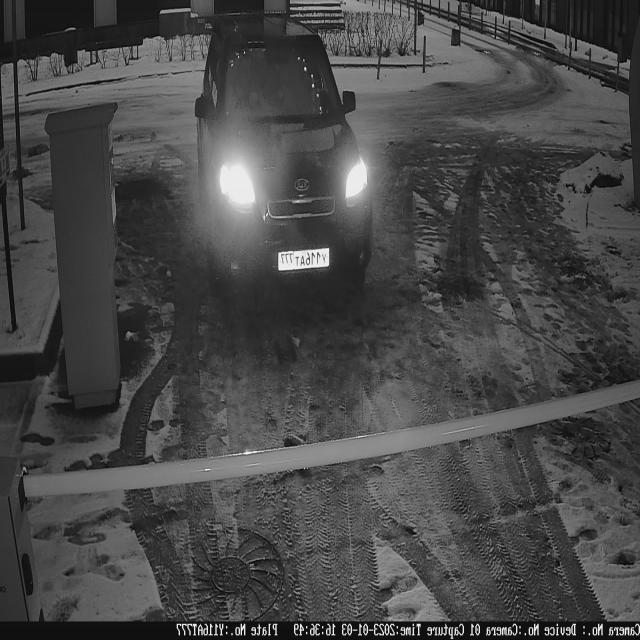car-plate-numbers: (277, 243, 333, 275)
